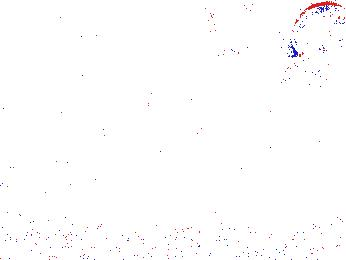moon jellyfish: (277, 59, 346, 146), (143, 59, 193, 147), (219, 5, 266, 74), (289, 3, 346, 56), (174, 3, 217, 72)
